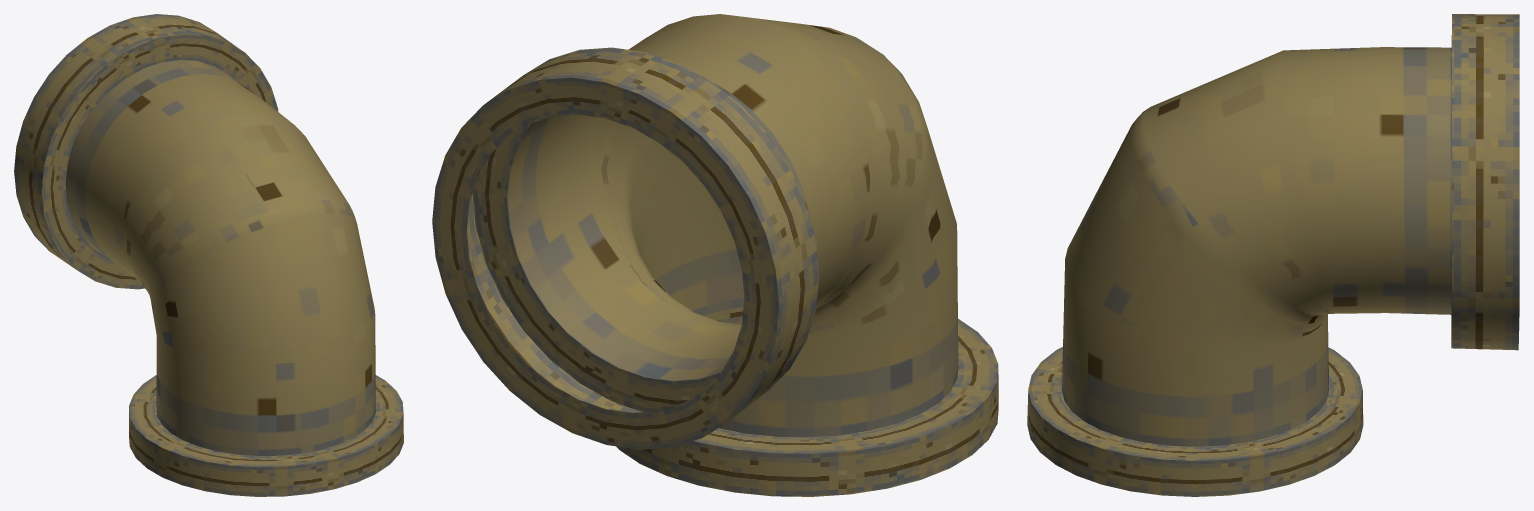
Rendered from L_SHAPED_BEND.fbx.
3 renders of one model, left to right at view 1: azimuth 30°, elevation 25°; view 2: azimuth 150°, elevation 25°; view 3: azimuth 270°, elevation 25°, orthographic. The views are drawn at different scales.
Visible parts, largest first — view 1: CURVE.002; view 2: CURVE.002; view 3: CURVE.002.
Part boxes in pixels (bbox=[...]): CURVE.002: bbox=[14, 14, 403, 496]; CURVE.002: bbox=[432, 14, 998, 496]; CURVE.002: bbox=[1027, 14, 1519, 496].
Size of the model in its own units: 250 by 325 by 366.
